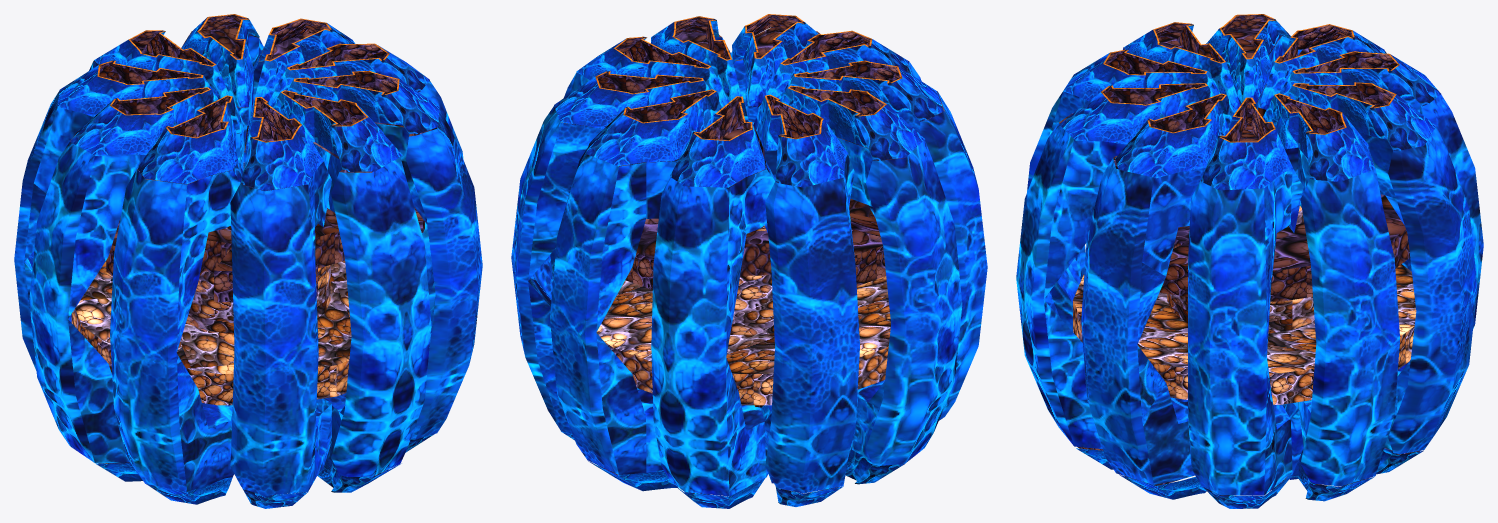
Rendered from RollingBalls_Sci-fi_2_4.glb.
The picture shows the model from 3 angles, left to right: view 1: azimuth 30°, elevation 25°; view 2: azimuth 150°, elevation 25°; view 3: azimuth 270°, elevation 25°; orthographic projection.
Parts seen in each view (by area): view 1: RollingBalls_Sci-fi_2_4; view 2: RollingBalls_Sci-fi_2_4; view 3: RollingBalls_Sci-fi_2_4.
Boxes of the visible parts, x1,y1,x2,y2 form: RollingBalls_Sci-fi_2_4: (14,14,482,508); RollingBalls_Sci-fi_2_4: (511,14,987,508); RollingBalls_Sci-fi_2_4: (1016,14,1483,508).
Bounding box in the file's own units: 1.64 × 1.41 × 1.64.
4 materials, 4 textured.
